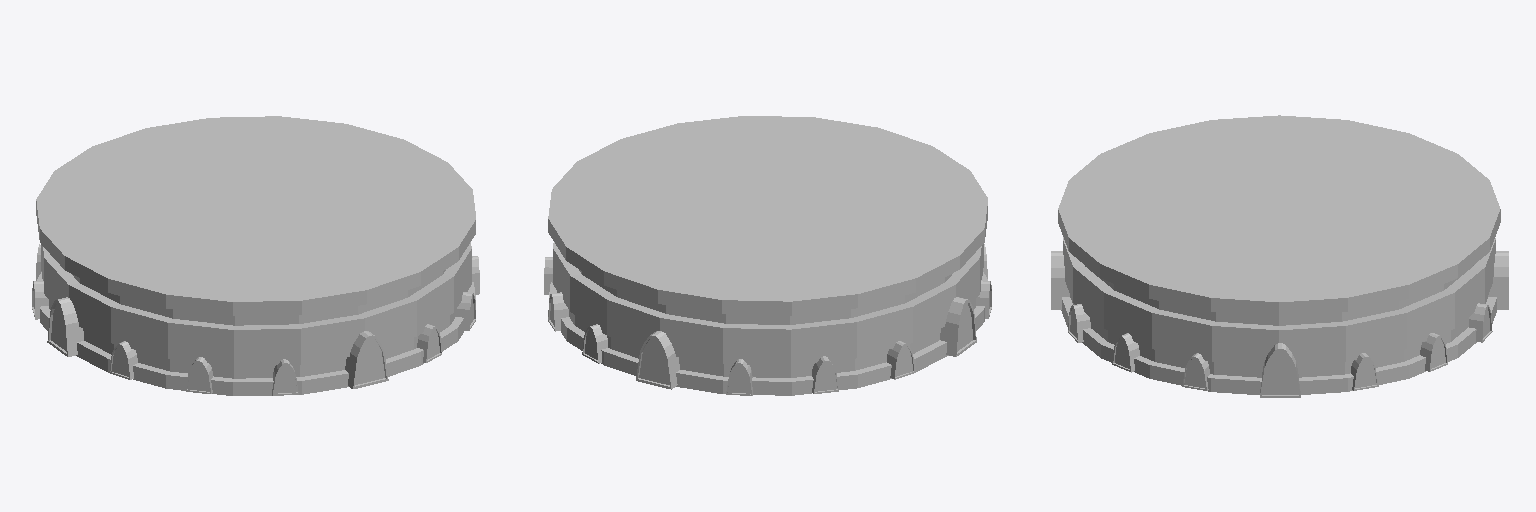
File: Centre.obj
3 views of the same model, side by side, from view 1: azimuth 30°, elevation 25°; view 2: azimuth 150°, elevation 25°; view 3: azimuth 270°, elevation 25° (orthographic).
Parts seen in each view (by area): view 1: Centre; view 2: Centre; view 3: Centre.
Boxes of the visible parts, x1=… form: Centre: x1=32, y1=116, x2=479, y2=395; Centre: x1=544, y1=116, x2=991, y2=395; Centre: x1=1051, y1=115, x2=1508, y2=397.
Bounding box in the file's own units: 122 × 27.84 × 122.